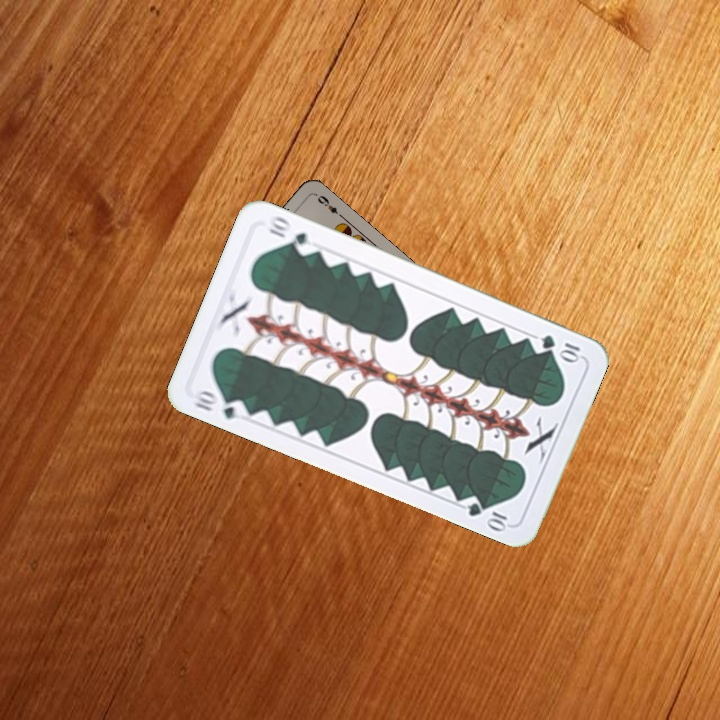G10: (190, 385, 249, 423), (537, 330, 583, 364)
